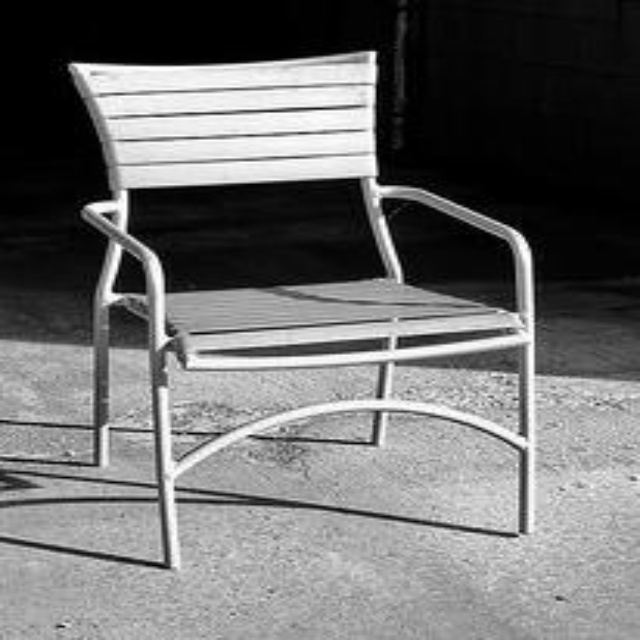obstacle: (68, 51, 531, 564)
